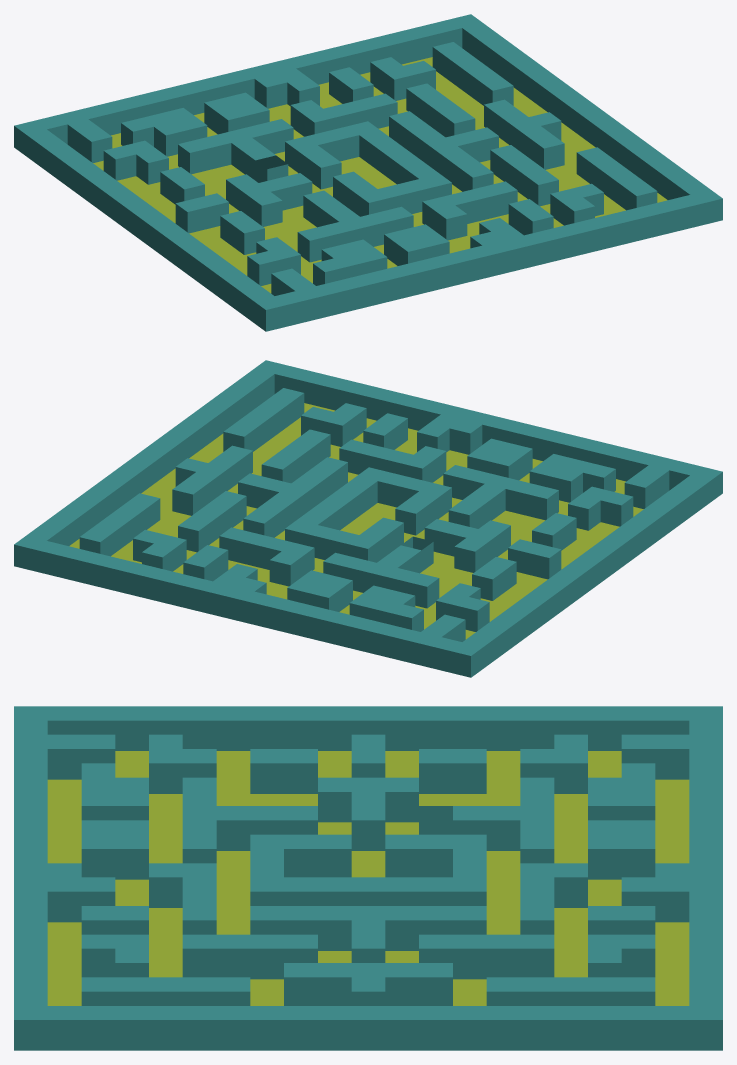
The model's file is gotchu_maze.fbx.
3 views of the same model, one above another, from view 1: azimuth 30°, elevation 25°; view 2: azimuth 150°, elevation 25°; view 3: azimuth 270°, elevation 25° (orthographic). The views are drawn at different scales.
Parts seen in each view (by area): view 1: Plane.021, Plane, Plane.001, Plane.011, Plane.004, Plane.003, Plane.016, Plane.010, Plane.002, Plane.020, Plane.019, Plane.014 (+19 smaller); view 2: Plane.021, Plane, Plane.001, Plane.011, Plane.003, Plane.004, Plane.016, Plane.020, Plane.002, Plane.010, Plane.014, Plane.019 (+19 smaller); view 3: Plane.021, Plane, Plane.001, Plane.011, Plane.016, Plane.003, Plane.004, Plane.002, Plane.012, Plane.017, Plane.014, Plane.019 (+19 smaller).
Part boxes in pixels (<box>): Plane.021: <box>14,14,722,331</box>; Plane: <box>93,57,667,293</box>; Plane.001: <box>285,121,451,216</box>; Plane.011: <box>389,111,498,191</box>; Plane.004: <box>178,119,293,182</box>; Plane.003: <box>297,190,413,262</box>; Plane.016: <box>484,99,564,169</box>; Plane.010: <box>422,181,517,240</box>; Plane.002: <box>226,173,312,226</box>; Plane.020: <box>290,93,397,136</box>; Plane.019: <box>432,42,513,105</box>; Plane.014: <box>576,147,657,210</box>; Plane.021: <box>14,360,722,677</box>; Plane: <box>69,403,643,639</box>; Plane.001: <box>285,467,451,562</box>; Plane.011: <box>238,457,347,537</box>; Plane.003: <box>443,465,558,528</box>; Plane.004: <box>323,536,439,608</box>; Plane.016: <box>172,445,252,515</box>; Plane.020: <box>219,527,314,586</box>; Plane.002: <box>424,519,510,572</box>; Plane.010: <box>339,439,446,482</box>; Plane.014: <box>223,388,304,451</box>; Plane.019: <box>79,493,160,556</box>; Plane.021: <box>14,706,722,1050</box>; Plane: <box>47,751,689,1005</box>; Plane.001: <box>250,834,486,905</box>; Plane.011: <box>250,906,486,962</box>; Plane.016: <box>284,963,452,1005</box>; Plane.003: <box>182,777,317,863</box>; Plane.004: <box>419,777,554,863</box>; Plane.002: <box>318,777,418,850</box>; Plane.012: <box>182,934,317,979</box>; Plane.017: <box>419,934,554,979</box>; Plane.014: <box>81,977,250,1005</box>; Plane.019: <box>486,977,655,1005</box>.
Bounding box in the file's own units: 4400 × 200 × 4200.
